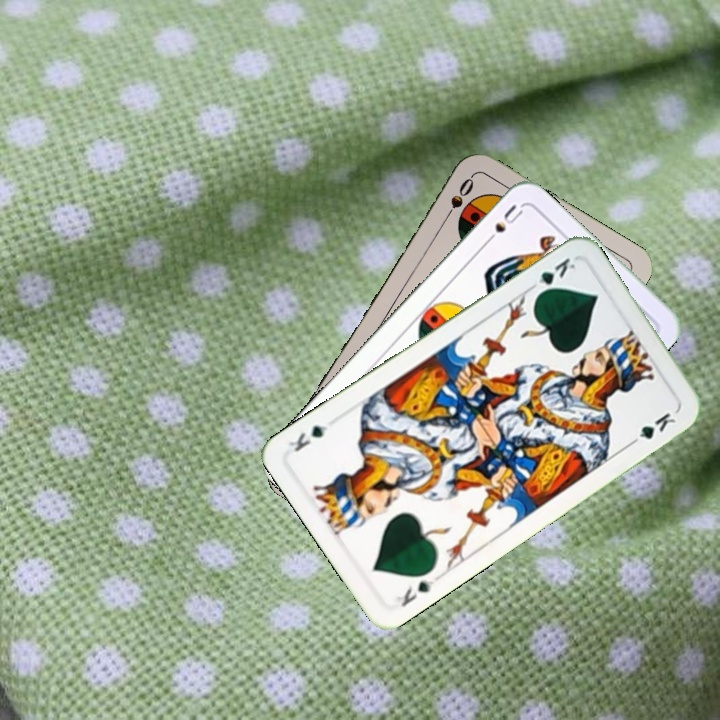GK: (525, 253, 578, 299), (391, 576, 437, 610)
SO: (439, 172, 477, 226)
SU: (480, 200, 526, 249)
